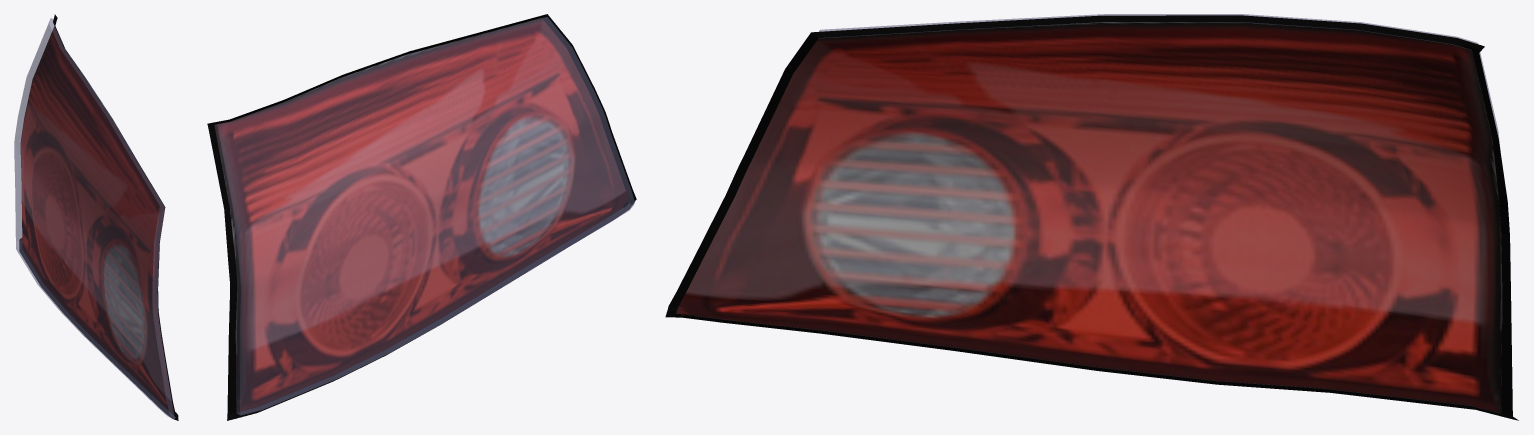
3 views of the same model, side by side, from view 1: azimuth 30°, elevation 25°; view 2: azimuth 150°, elevation 25°; view 3: azimuth 270°, elevation 25° (orthographic). The views are drawn at different scales.
Visible parts, largest first — view 1: Y613_541D_L_Y613_541D_L_2_DTaSI, Y613_541D_L_1_N_Y613_541D_L, Y613_541D_L_Y613_541D_L_3_D; view 2: Y613_541D_L_Y613_541D_L_2_DTaSI, Y613_541D_L_1_N_Y613_541D_L, Y613_541D_L_Y613_541D_L_3_D; view 3: Y613_541D_L_1_N_Y613_541D_L, Y613_541D_L_Y613_541D_L_3_D, Y613_541D_L_Y613_541D_L_2_DTaSI.
Boxes of the visible parts, bbox=[...] form: Y613_541D_L_Y613_541D_L_2_DTaSI: bbox=[14, 18, 175, 418]; Y613_541D_L_1_N_Y613_541D_L: bbox=[20, 26, 173, 413]; Y613_541D_L_Y613_541D_L_3_D: bbox=[19, 14, 178, 420]; Y613_541D_L_Y613_541D_L_2_DTaSI: bbox=[214, 17, 634, 415]; Y613_541D_L_1_N_Y613_541D_L: bbox=[214, 18, 628, 412]; Y613_541D_L_Y613_541D_L_3_D: bbox=[207, 14, 636, 420]; Y613_541D_L_1_N_Y613_541D_L: bbox=[676, 22, 1502, 412]; Y613_541D_L_Y613_541D_L_3_D: bbox=[665, 15, 1518, 420]; Y613_541D_L_Y613_541D_L_2_DTaSI: bbox=[692, 14, 1499, 318].
Bounding box in the file's own units: 13.42 × 24.9 × 48.59.
